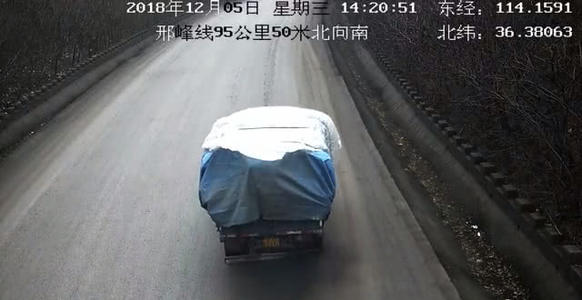smoke: (274, 247, 369, 300)
